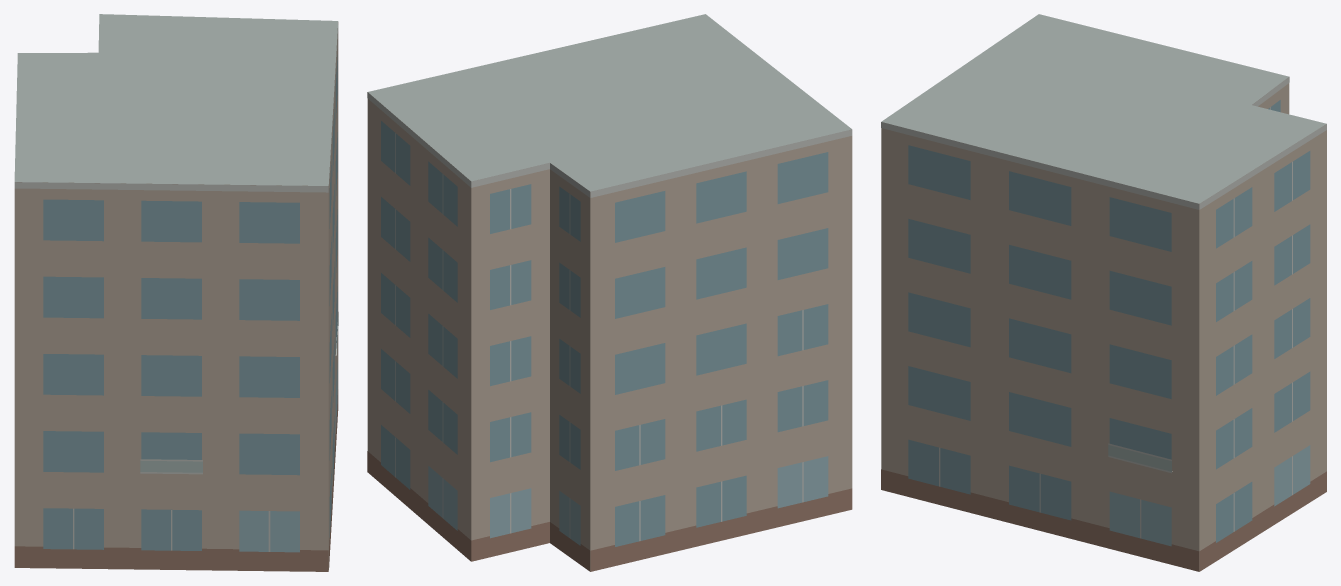
Rendered from survey-upis-32950683.glb.
The picture shows the model from 3 angles, left to right: view 1: azimuth 30°, elevation 25°; view 2: azimuth 150°, elevation 25°; view 3: azimuth 270°, elevation 25°; orthographic projection. The views are drawn at different scales.
Parts seen in each view (by area): view 1: survey-upis-32950683.tmp; view 2: survey-upis-32950683.tmp; view 3: survey-upis-32950683.tmp.
Boxes of the visible parts, x1=… form: survey-upis-32950683.tmp: x1=14, y1=14, x2=338, y2=571; survey-upis-32950683.tmp: x1=367, y1=14, x2=852, y2=571; survey-upis-32950683.tmp: x1=881, y1=14, x2=1326, y2=571.
Size of the model in its own units: 16.1 by 14.55 by 15.98.
